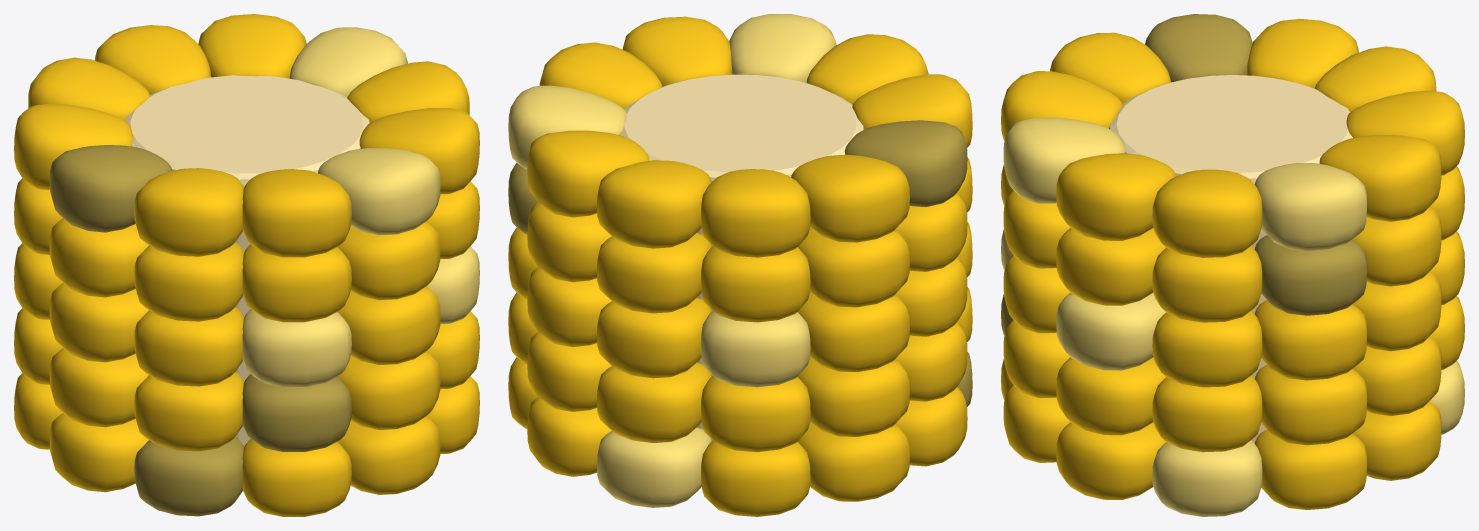
The model's file is corn.glb.
3 renders of one model, left to right at view 1: azimuth 30°, elevation 25°; view 2: azimuth 150°, elevation 25°; view 3: azimuth 270°, elevation 25°, orthographic.
Parts seen in each view (by area): view 1: Corn; view 2: Corn; view 3: Corn.
Boxes of the visible parts, x1,y1,x2,y2 form: Corn: (14, 14, 479, 516); Corn: (508, 14, 972, 516); Corn: (1001, 14, 1464, 516).
Size of the model in its own units: 1.46 by 1.13 by 1.46.
